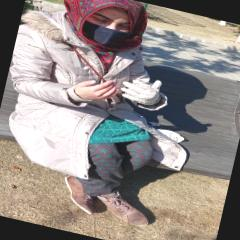gloved: (120, 73, 161, 106)
not-gloved: (73, 72, 120, 106)
